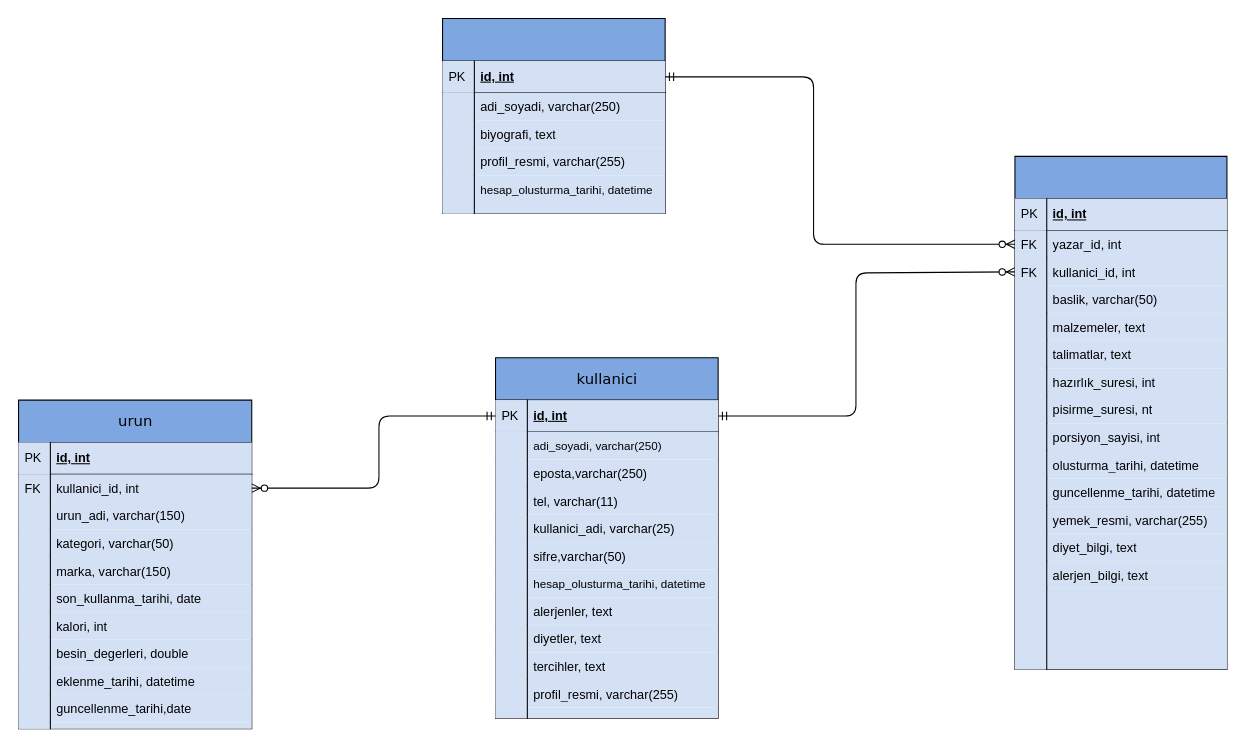
Some shapes in this 1245 by 747 pixel diagram are drawn without their labels. Here are the shapes that lost their labels. From the top down, the box of each, then its label:
(441, 17, 665, 214): yazar
(1014, 155, 1227, 669): tarif
